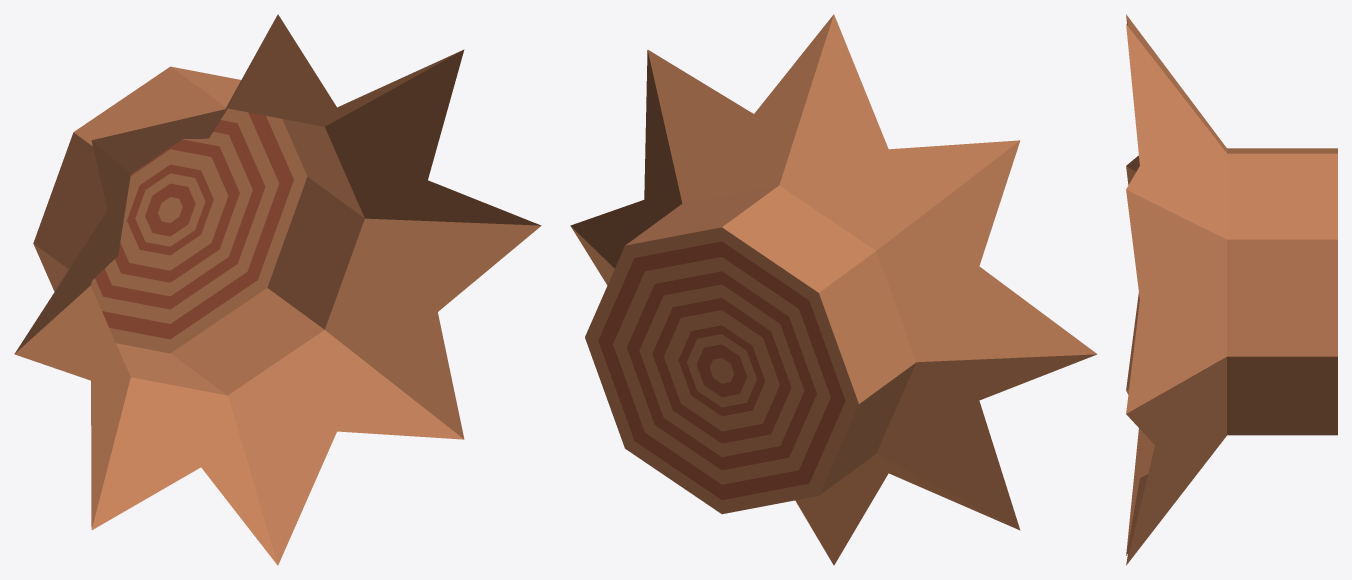
The model's file is Choco.fbx.
3 views of the same model, side by side, from view 1: azimuth 30°, elevation 25°; view 2: azimuth 150°, elevation 25°; view 3: azimuth 270°, elevation 25° (orthographic). The views are drawn at different scales.
Visible parts, largest first — view 1: Circle.001; view 2: Circle.001; view 3: Circle.001.
Boxes of the visible parts, x1=… form: Circle.001: x1=14, y1=14, x2=541, y2=565; Circle.001: x1=570, y1=14, x2=1097, y2=565; Circle.001: x1=1126, y1=14, x2=1337, y2=565.
Bounding box in the file's own units: 385 × 385 × 139.
